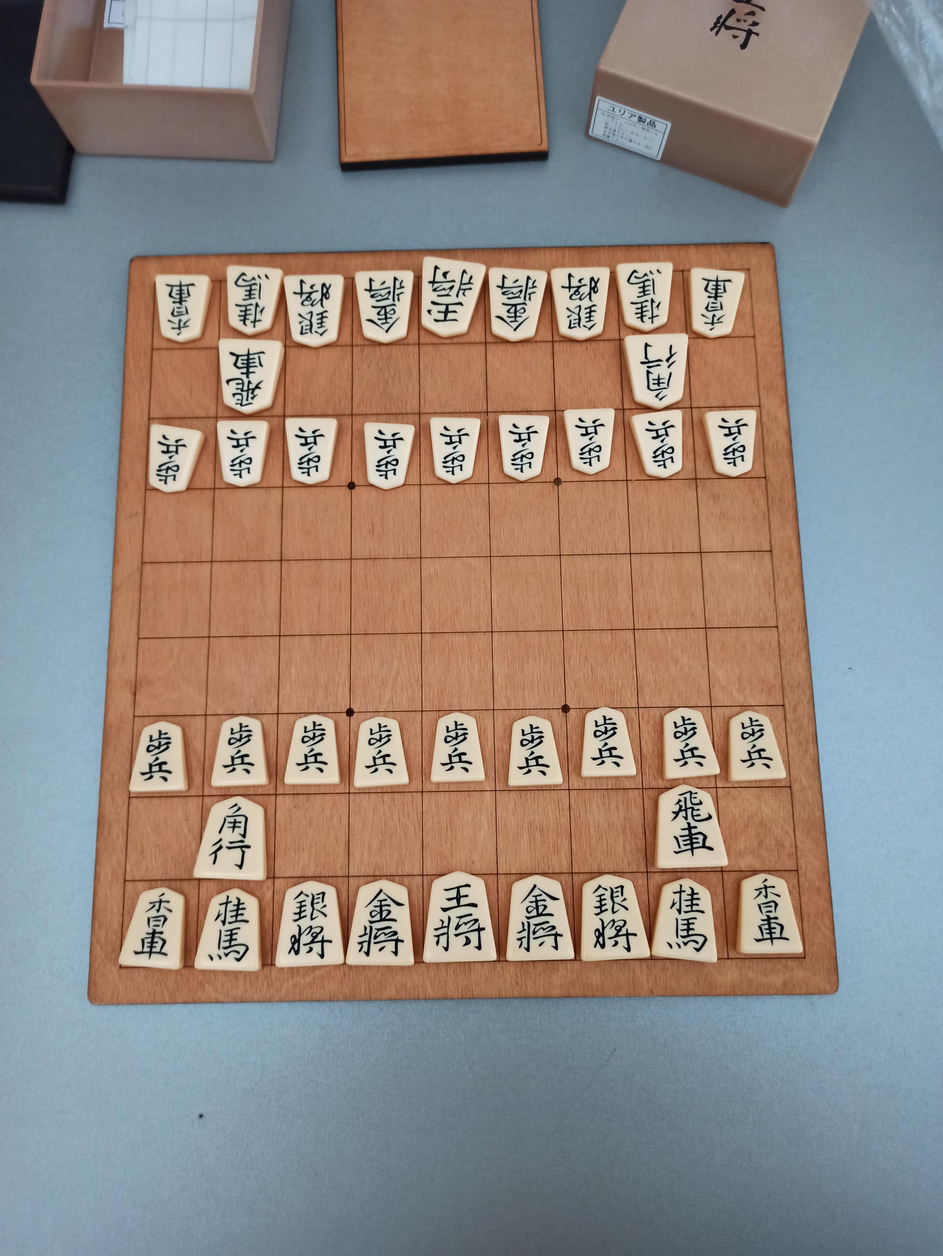board: (119, 270, 805, 968)
